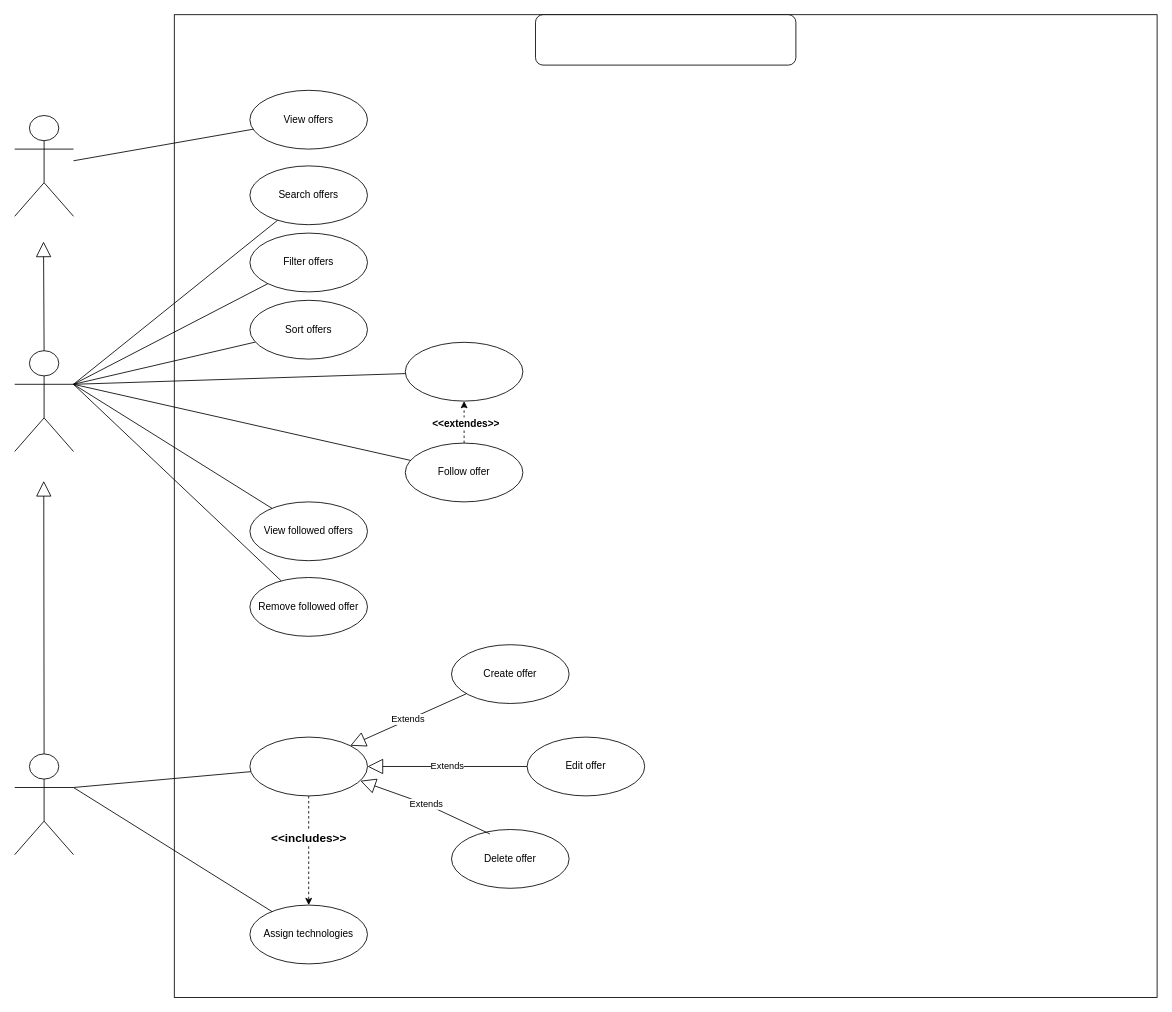
This 1172x1012 diagram has some shape labels left out. Here are the shapes that lost their labels. From the top down, the box of each, then its label:
(535, 14, 796, 65): YouApply
(14, 115, 74, 216): Visitor
(404, 341, 523, 401): View offer details
(14, 350, 74, 452): Students
(249, 736, 368, 796): Manage offers
(14, 753, 74, 855): Admin
